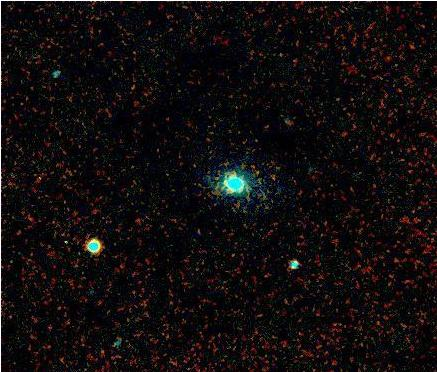star: (256, 162, 286, 192)
